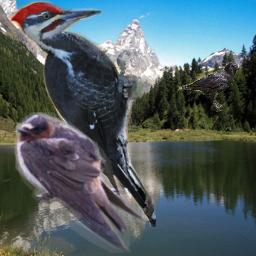Crow: (176, 62, 239, 112)
Swallow: (13, 112, 147, 253)
Woodpecker: (8, 0, 156, 227)
